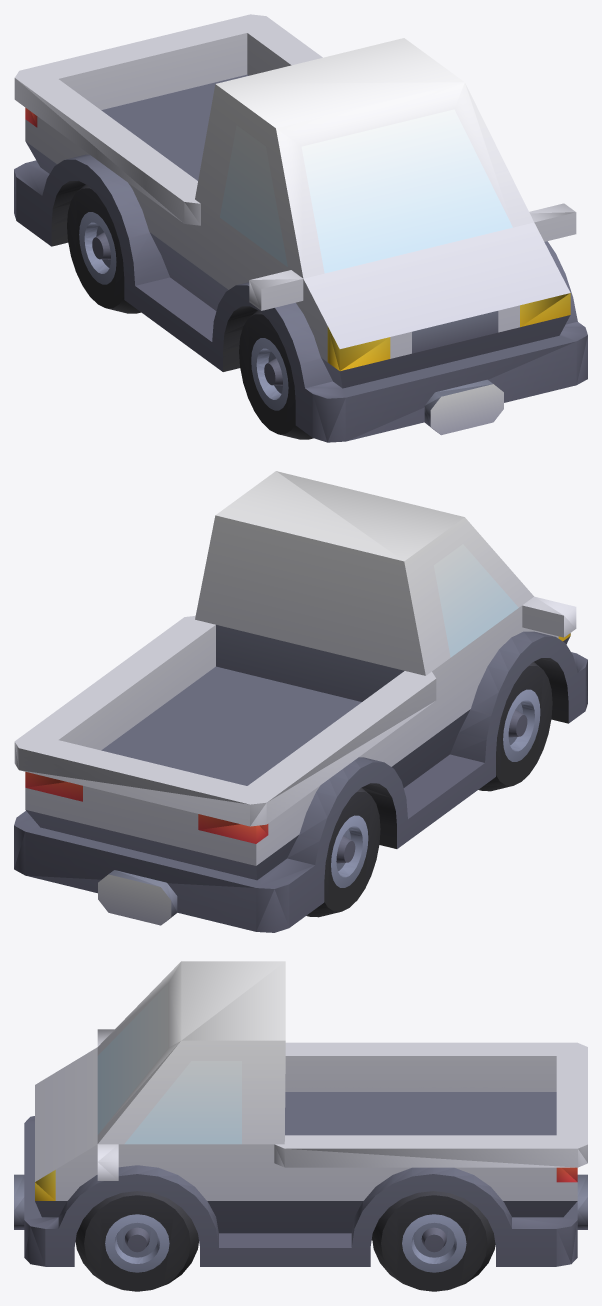
The model's file is car_truck_flat.fbx.
3 renders of one model, top to bottom at view 1: azimuth 30°, elevation 25°; view 2: azimuth 150°, elevation 25°; view 3: azimuth 270°, elevation 25°, orthographic. The views are drawn at different scales.
Parts seen in each view (by area): view 1: car_truck_flat_LOD0; view 2: car_truck_flat_LOD0; view 3: car_truck_flat_LOD0.
Boxes of the visible parts, x1,y1,x2,y2 form: car_truck_flat_LOD0: (14, 14, 587, 442); car_truck_flat_LOD0: (14, 471, 587, 932); car_truck_flat_LOD0: (14, 961, 587, 1291).
Size of what is drawn, in the model's own units: 2.64 by 2.29 by 4.83.
